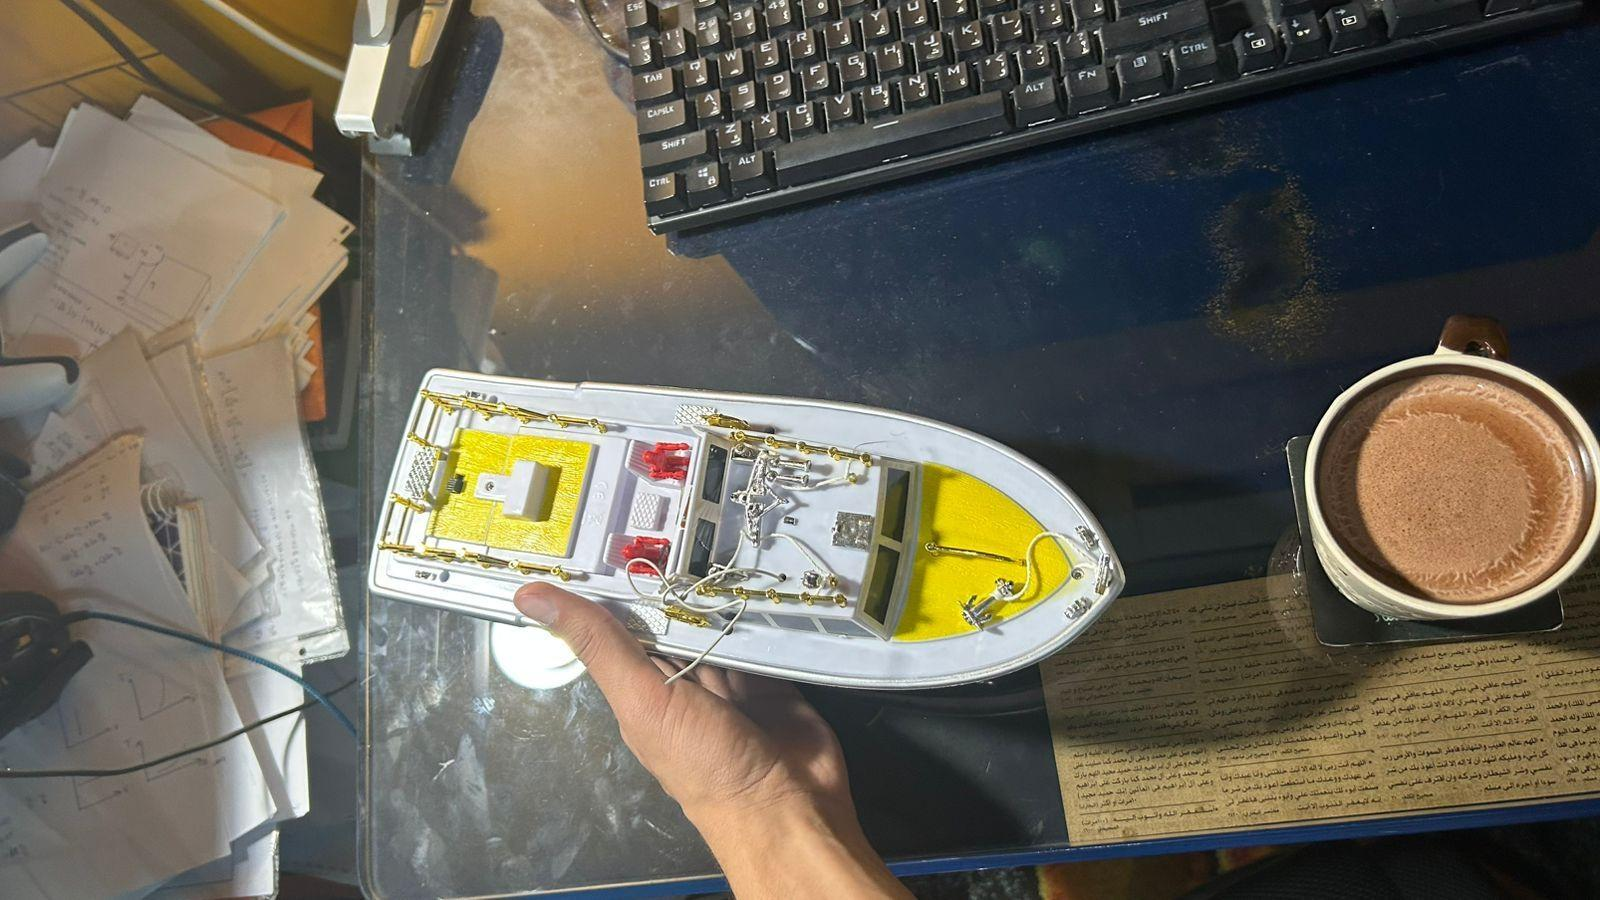Boat: (360, 361, 1130, 708)
